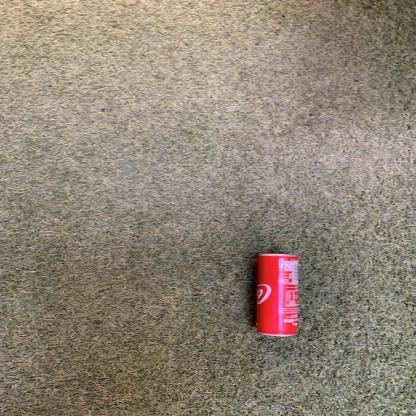trash: (246, 249, 303, 339)
